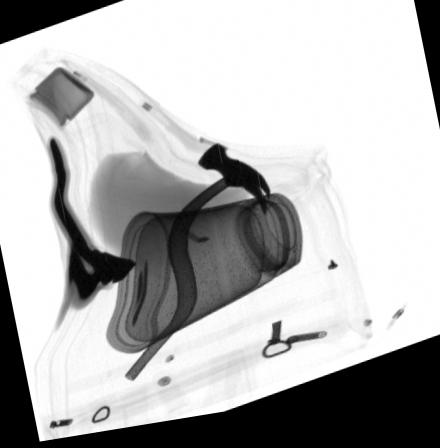Hammer: (125, 148, 270, 385)
Pliers: (46, 136, 138, 311)
